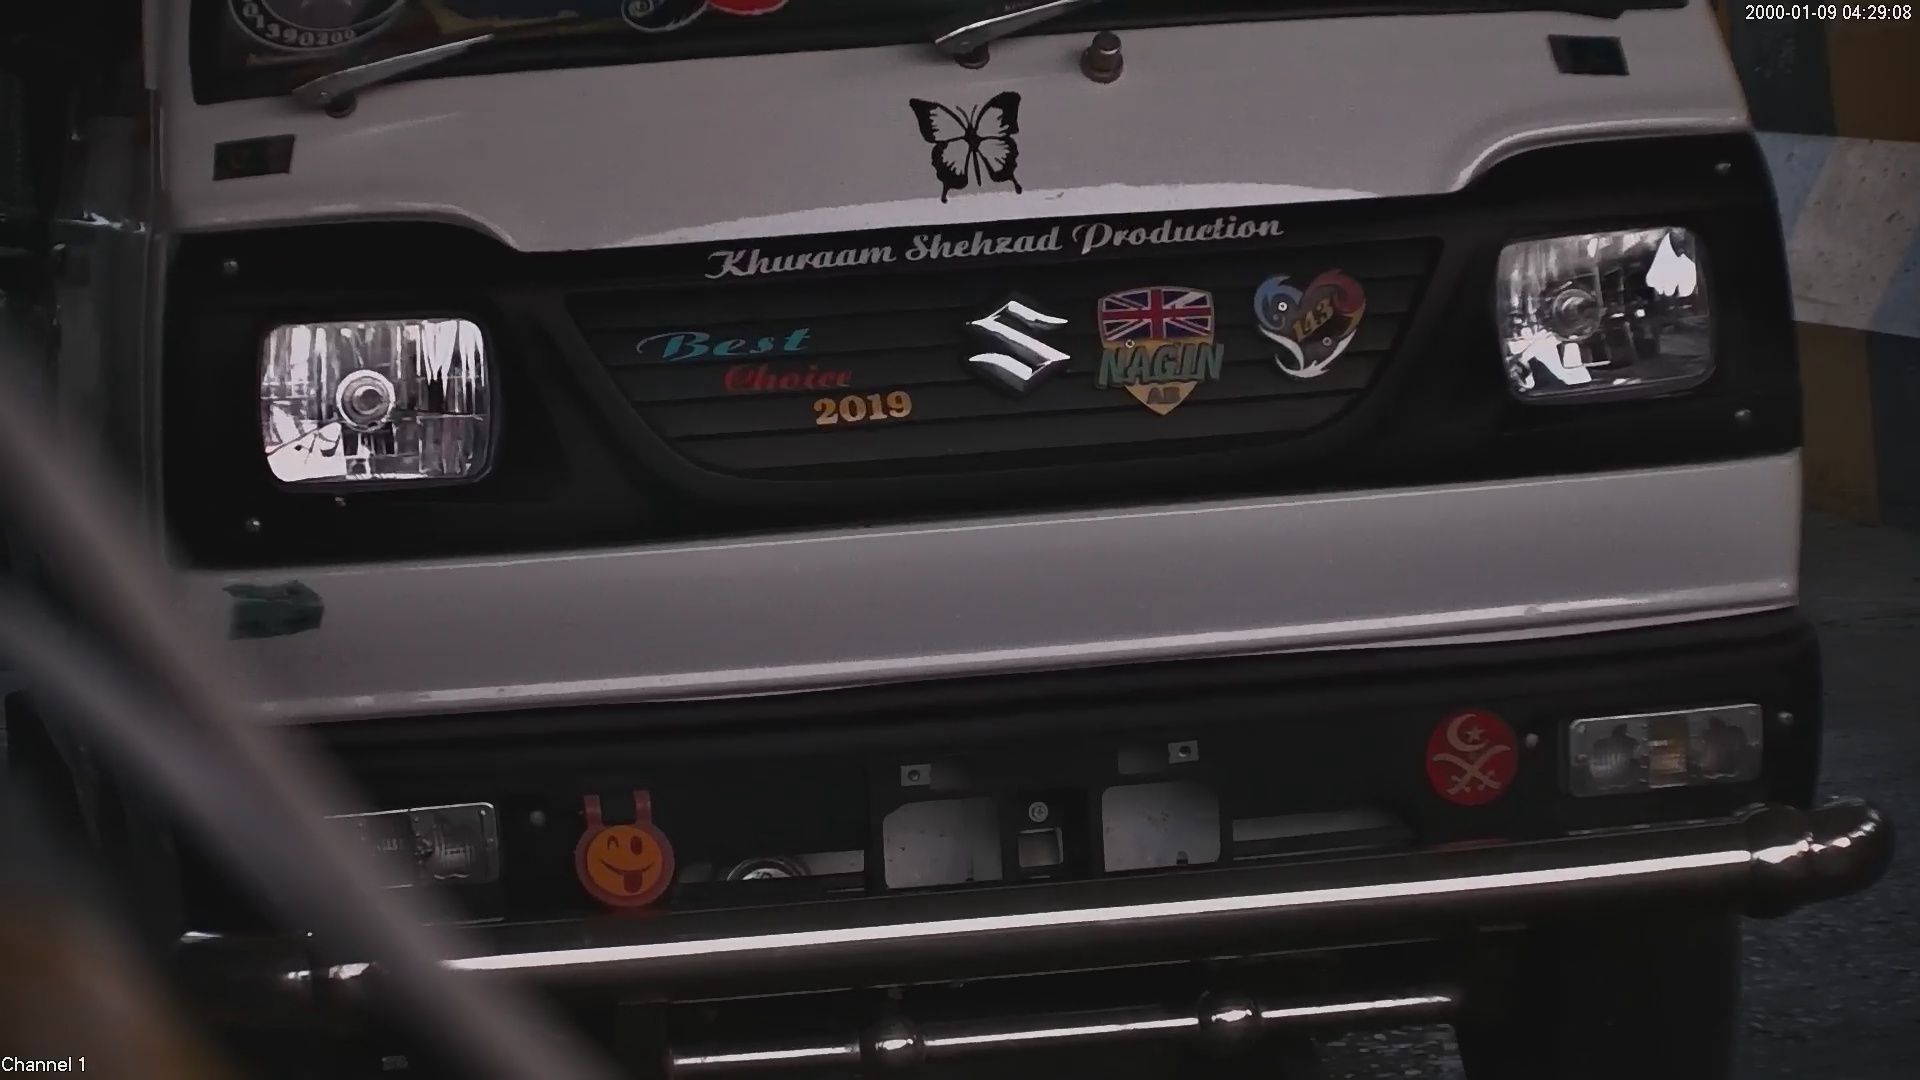Number_Plate: (834, 727, 1243, 886)
Undefined: (189, 259, 541, 514), (1484, 214, 1741, 407), (965, 286, 1352, 405), (637, 316, 930, 440), (721, 216, 1293, 270), (1558, 686, 1769, 799), (310, 794, 508, 899), (541, 788, 676, 903), (1417, 696, 1532, 814)
